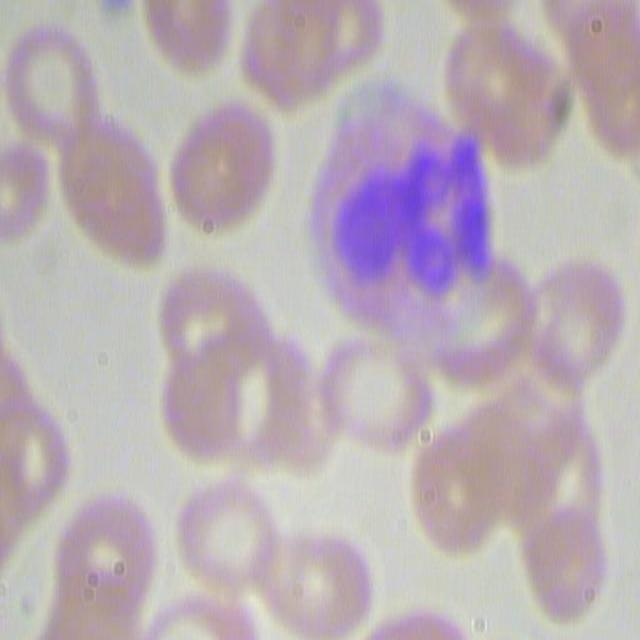RBC: (153, 262, 313, 478), (448, 2, 580, 170), (57, 114, 169, 272), (314, 315, 434, 462), (171, 462, 286, 611), (510, 247, 622, 397), (54, 482, 161, 637), (234, 0, 370, 116), (165, 101, 272, 237), (261, 526, 374, 639), (1, 14, 96, 141), (562, 5, 640, 159), (519, 515, 609, 621), (0, 400, 71, 527), (140, 0, 239, 75), (0, 130, 49, 251)
WBC: (323, 94, 498, 322)
